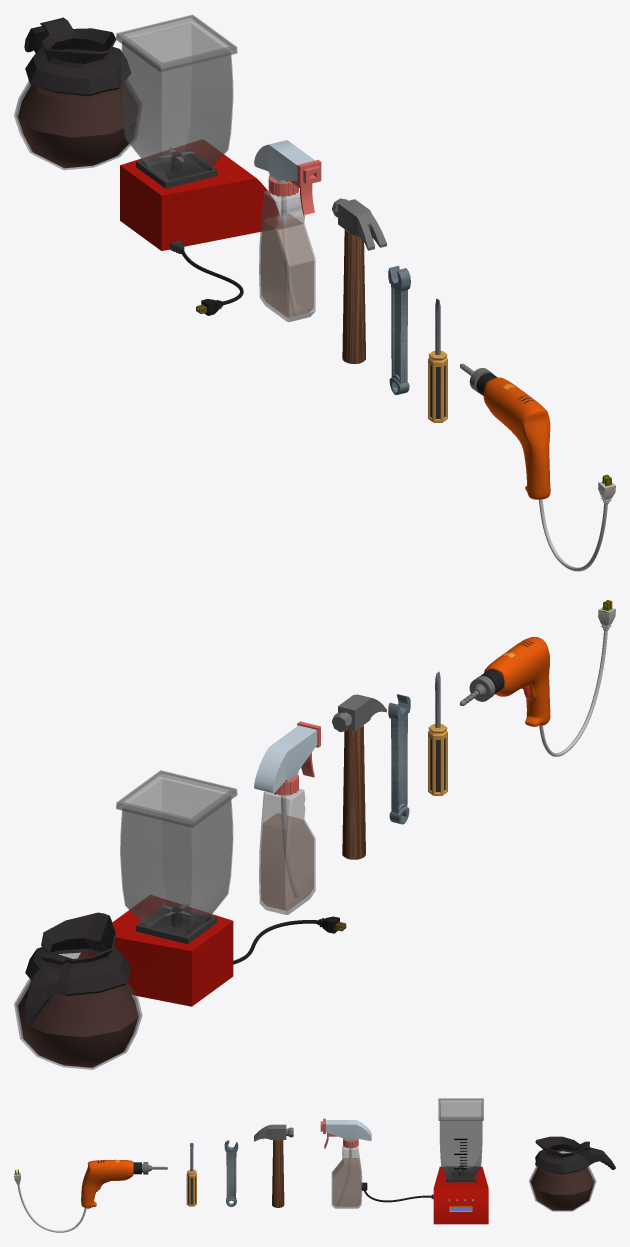
File: low_poly_household_items.glb
The picture shows the model from 3 angles, top to bottom: view 1: azimuth 30°, elevation 25°; view 2: azimuth 150°, elevation 25°; view 3: azimuth 270°, elevation 25°; orthographic projection. The views are drawn at different scales.
Visible parts, largest first — view 1: Blender_2, Coffee Cooker_1, Spray_Bottle_0, Drill_3, Hammer_4, Wrench_6, ScrewDriver_5; view 2: Blender_2, Coffee Cooker_1, Spray_Bottle_0, Drill_3, Hammer_4, Wrench_6, ScrewDriver_5; view 3: Blender_2, Coffee Cooker_1, Spray_Bottle_0, Drill_3, Hammer_4, Wrench_6, ScrewDriver_5.
Boxes of the visible parts, x1=… form: Blender_2: x1=116, y1=14, x2=279, y2=315; Coffee Cooker_1: x1=14, y1=17, x2=140, y2=169; Spray_Bottle_0: x1=254, y1=140, x2=321, y2=321; Drill_3: x1=460, y1=363, x2=615, y2=571; Hammer_4: x1=332, y1=198, x2=386, y2=363; Wrench_6: x1=388, y1=265, x2=410, y2=394; ScrewDriver_5: x1=428, y1=298, x2=447, y2=422; Blender_2: x1=78, y1=770, x2=346, y2=1006; Coffee Cooker_1: x1=14, y1=912, x2=142, y2=1069; Spray_Bottle_0: x1=254, y1=721, x2=320, y2=914; Drill_3: x1=459, y1=600, x2=615, y2=756; Hammer_4: x1=332, y1=694, x2=386, y2=859; Wrench_6: x1=388, y1=694, x2=410, y2=824; ScrewDriver_5: x1=428, y1=671, x2=447, y2=795; Blender_2: x1=361, y1=1098, x2=488, y2=1224; Coffee Cooker_1: x1=529, y1=1136, x2=615, y2=1211; Spray_Bottle_0: x1=320, y1=1118, x2=371, y2=1208; Drill_3: x1=14, y1=1159, x2=167, y2=1232; Hammer_4: x1=254, y1=1124, x2=293, y2=1207; Wrench_6: x1=224, y1=1140, x2=238, y2=1206; ScrewDriver_5: x1=186, y1=1143, x2=196, y2=1206.
Bounding box in the file's own units: 4.16 × 6.3 × 27.56.
12 materials, 12 textured.
